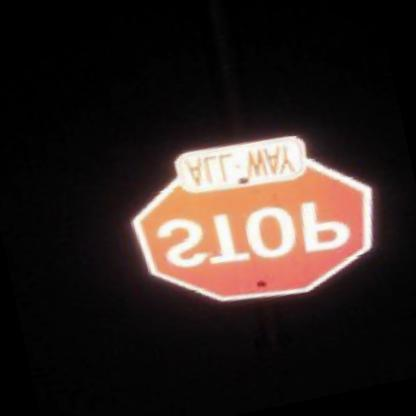stop: (113, 118, 388, 328)
